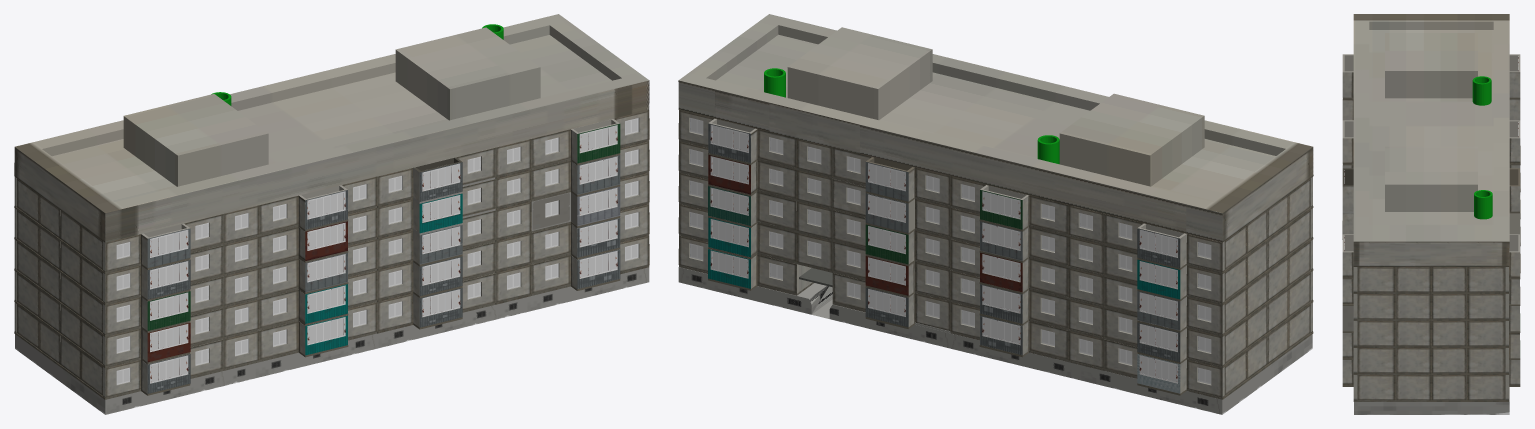
File: Оснавная хрущёвка.fbx
3 views of the same model, side by side, from view 1: azimuth 30°, elevation 25°; view 2: azimuth 150°, elevation 25°; view 3: azimuth 270°, elevation 25° (orthographic). The views are drawn at different scales.
Parts seen in each view (by area): view 1: Куб.002, Куб, Куб.001, Плоскость.447, Плоскость.884, Плоскость.440, Плоскость.877, Плоскость.018, Плоскость.309, Плоскость.355, Плоскость.401, Плоскость.470 (+71 smaller); view 2: Куб.002, Куб, Куб.001, Плоскость.907, Плоскость.020, Плоскость.424, Плоскость.900, Плоскость.417, Плоскость.493, Плоскость.815, Плоскость.769, Плоскость.861 (+82 smaller); view 3: Куб.002, Куб.001, Плоскость.003, Плоскость.024, Плоскость.290, Плоскость.313, Плоскость.336, Плоскость.359, Плоскость.382, Плоскость.405, Плоскость.428, Плоскость.451 (+32 smaller).
Part boxes in pixels (box(x1,y1,x2,y2)): Куб.002: box(14, 14, 649, 242); Куб: box(15, 333, 376, 414); Куб.001: box(377, 267, 649, 348); Плоскость.447: box(531, 119, 620, 168); Плоскость.884: box(259, 185, 347, 234); Плоскость.440: box(413, 147, 495, 201); Плоскость.877: box(141, 214, 223, 268); Плоскость.018: box(531, 249, 620, 293); Плоскость.309: box(531, 218, 620, 262); Плоскость.355: box(531, 186, 620, 230); Плоскость.401: box(531, 155, 620, 199); Плоскость.470: box(259, 315, 347, 360); Куб.002: box(678, 14, 1313, 242); Куб: box(950, 333, 1312, 414); Куб.001: box(678, 267, 950, 348); Плоскость.907: box(980, 185, 1068, 234); Плоскость.020: box(708, 249, 811, 293); Плоскость.424: box(708, 118, 796, 167); Плоскость.900: box(1104, 214, 1186, 267); Плоскость.417: box(832, 147, 914, 201); Плоскость.493: box(980, 315, 1068, 359); Плоскость.815: box(980, 252, 1068, 297); Плоскость.769: box(980, 284, 1068, 328); Плоскость.861: box(980, 221, 1068, 265); Куб.002: box(1353, 14, 1509, 266); Куб.001: box(1354, 387, 1509, 414); Плоскость.003: box(1467, 375, 1505, 400); Плоскость.024: box(1357, 375, 1395, 400); Плоскость.290: box(1467, 348, 1505, 373); Плоскость.313: box(1357, 348, 1395, 373); Плоскость.336: box(1467, 321, 1505, 346); Плоскость.359: box(1357, 321, 1395, 346); Плоскость.382: box(1467, 294, 1505, 319); Плоскость.405: box(1357, 294, 1395, 319); Плоскость.428: box(1467, 267, 1505, 292); Плоскость.451: box(1357, 267, 1395, 292).
Bounding box in the file's own units: 8996 × 3539 × 2970.
